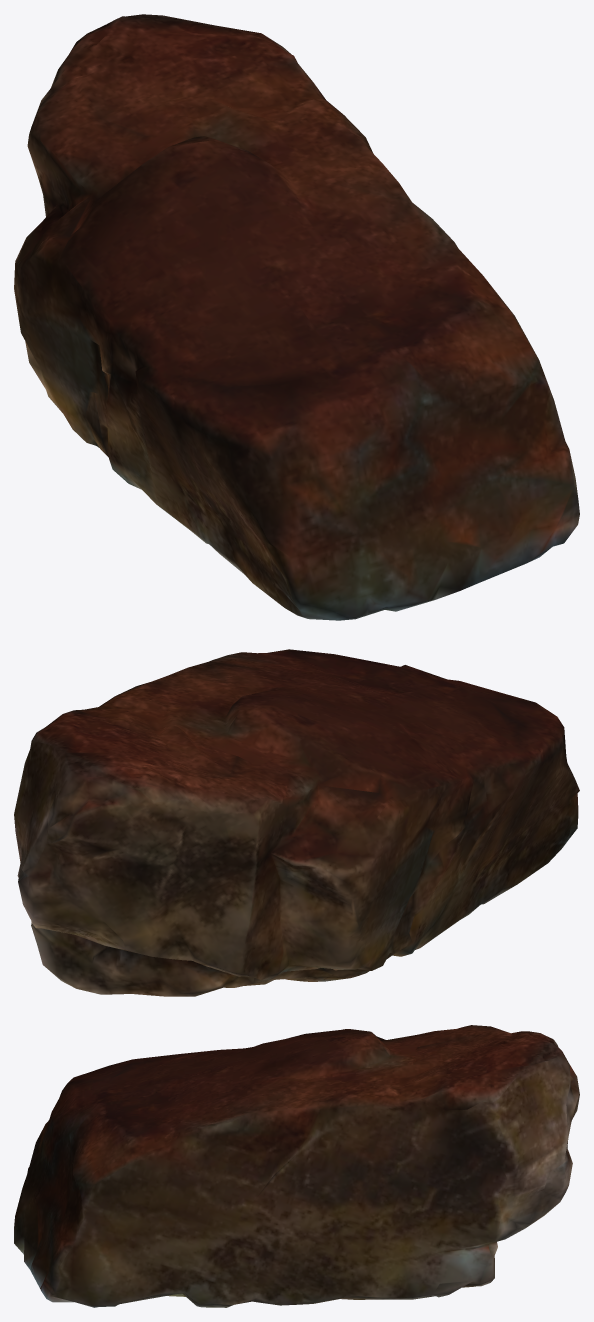
The model's file is rock_07.glb.
3 renders of one model, top to bottom at view 1: azimuth 30°, elevation 25°; view 2: azimuth 150°, elevation 25°; view 3: azimuth 270°, elevation 25°, orthographic. The views are drawn at different scales.
Parts seen in each view (by area): view 1: rock_07; view 2: rock_07; view 3: rock_07.
Part boxes in pixels (x1,y1,x2,y2): rock_07: [14, 14, 579, 620]; rock_07: [14, 649, 579, 996]; rock_07: [14, 1025, 579, 1307].
Bounding box in the file's own units: 0.1681 × 0.1437 × 0.3198.
Materials: 1 (1 with a texture image).
